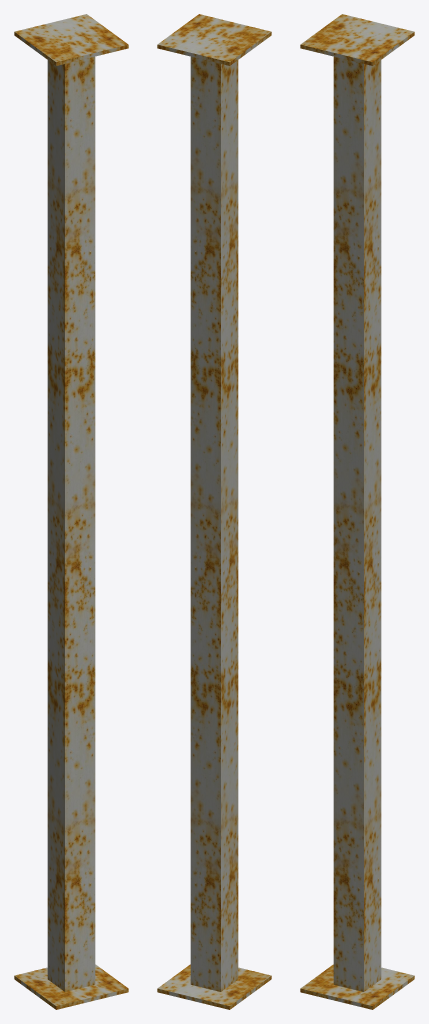
Rendered from celik_direk_3m.gltf.
3 views of the same model, side by side, from view 1: azimuth 30°, elevation 25°; view 2: azimuth 150°, elevation 25°; view 3: azimuth 330°, elevation 25° (orthographic).
Parts seen in each view (by area): view 1: celik_direk_3m; view 2: celik_direk_3m; view 3: celik_direk_3m.
Part boxes in pixels (left/top/right/bottom): celik_direk_3m: left=14, top=14, right=128, bottom=1009; celik_direk_3m: left=157, top=14, right=271, bottom=1009; celik_direk_3m: left=300, top=14, right=414, bottom=1009.
Size of what is drawn, in the model's own units: 0.24 by 3 by 0.24.
1 material, 1 textured.
